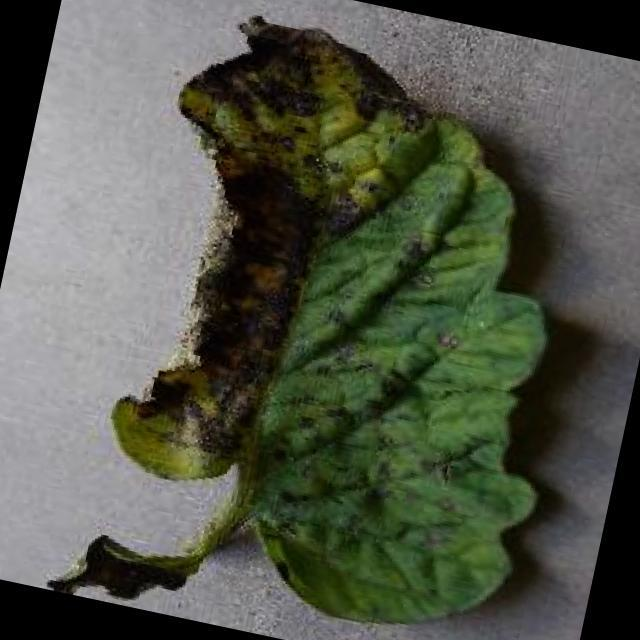Tomato Early blight leaf: (45, 0, 625, 640)
